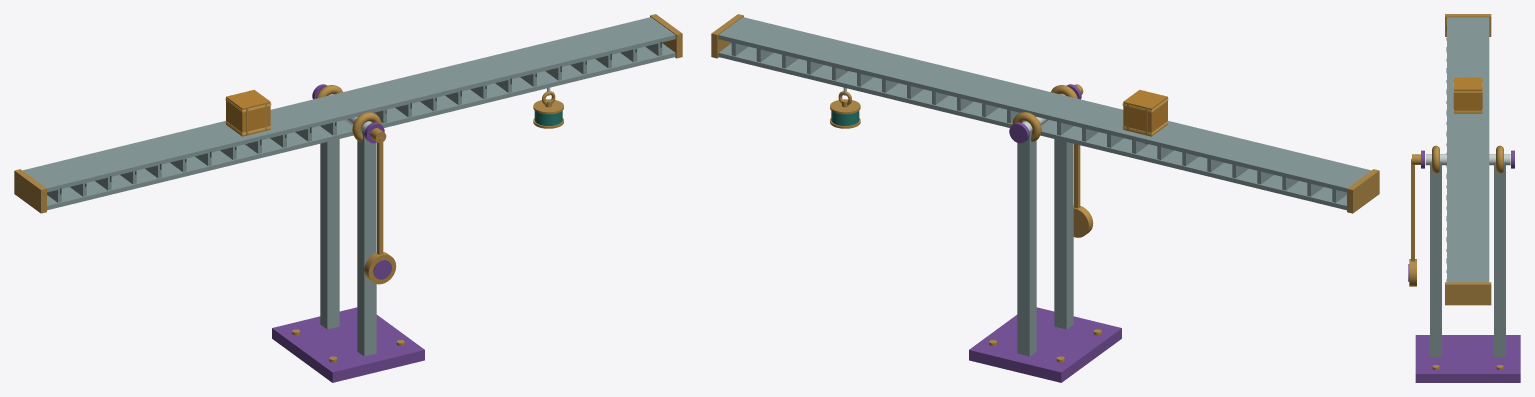
Rendered from lever-assembly.glb.
3 renders of one model, left to right at view 1: azimuth 30°, elevation 25°; view 2: azimuth 150°, elevation 25°; view 3: azimuth 270°, elevation 25°, orthographic. The views are drawn at different scales.
Visible parts, largest first — view 1: rail (×3), fulcrum (×3), gold-crate, pointer-rod; view 2: rail (×3), fulcrum (×3), gold-crate; view 3: rail (×3), fulcrum (×6), gold-crate, pointer-rod, pointer-bob.
Boxes of the visible parts, x1,y1,x2,y2 form: rail (×3): (14, 17, 675, 213); fulcrum (×3): (272, 129, 424, 382); gold-crate: (226, 89, 270, 136); pointer-rod: (377, 137, 383, 254); rail (×3): (718, 17, 1379, 213); fulcrum (×3): (969, 129, 1121, 382); gold-crate: (1123, 89, 1167, 136); rail (×3): (1445, 14, 1491, 305); fulcrum (×6): (1415, 145, 1520, 382); gold-crate: (1454, 77, 1482, 113); pointer-rod: (1411, 158, 1414, 261); pointer-bob: (1409, 259, 1416, 286).
Bounding box in the file's own units: 25.64 × 10.49 × 4.49.
